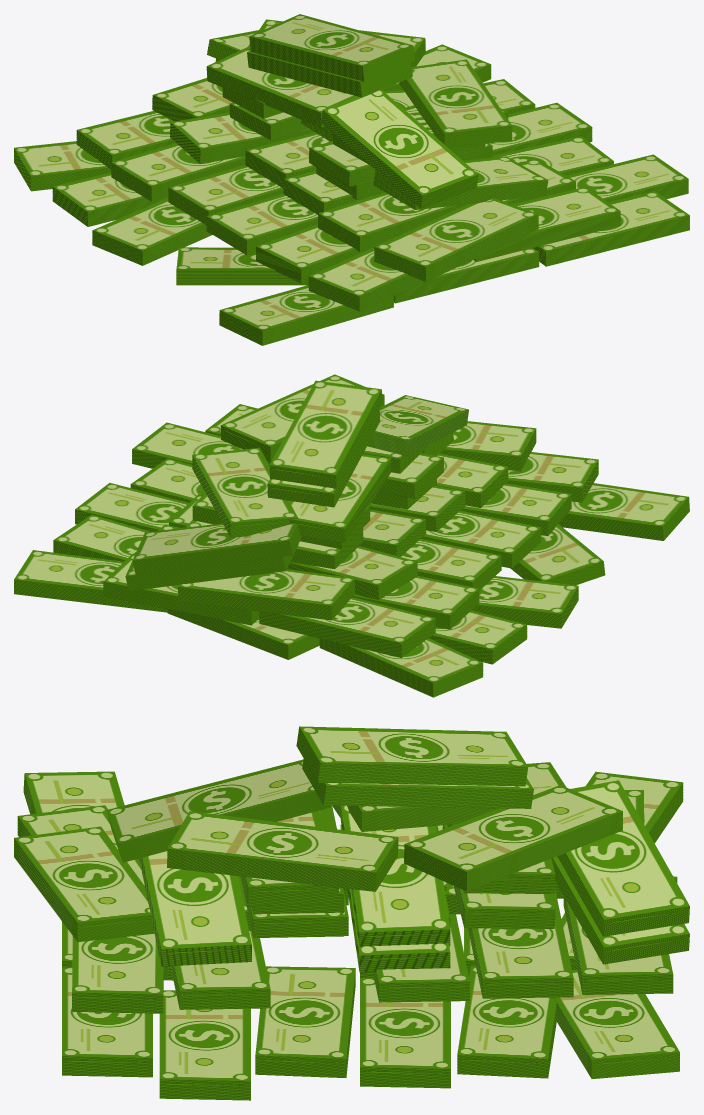
The model's file is uploads_files_3739943_Stack+of+money+.fbx.
The picture shows the model from 3 angles, top to bottom: view 1: azimuth 30°, elevation 25°; view 2: azimuth 150°, elevation 25°; view 3: azimuth 270°, elevation 25°; orthographic projection. The views are drawn at different scales.
Parts seen in each view (by area): view 1: Plane.047, Plane.033, Plane.009, Plane.045, Plane.002, Plane.022, Plane.014, Plane.048, Plane.018, Plane.034, Plane.024, Plane.019 (+27 smaller); view 2: Plane.009, Plane.032, Plane.046, Plane.043, Plane.030, Plane.002, Plane.017, Plane.015, Plane.014, Plane.048, Plane.047, Plane.024 (+25 smaller); view 3: Plane.045, Plane.046, Plane.009, Plane.033, Plane.043, Plane.008, Plane.047, Plane.039, Plane.004, Plane.015, Plane.012, Plane.003 (+19 smaller).
Part boxes in pixels (bbox=[...]): Plane.047: bbox=[321, 89, 478, 208]; Plane.033: bbox=[374, 198, 538, 281]; Plane.009: bbox=[249, 14, 414, 81]; Plane.045: bbox=[399, 59, 512, 147]; Plane.002: bbox=[219, 285, 393, 345]; Plane.022: bbox=[533, 191, 689, 266]; Plane.014: bbox=[92, 197, 212, 265]; Plane.048: bbox=[206, 47, 355, 127]; Plane.018: bbox=[474, 186, 620, 261]; Plane.034: bbox=[318, 192, 466, 251]; Plane.024: bbox=[206, 193, 317, 255]; Plane.019: bbox=[308, 247, 473, 311]; Plane.009: bbox=[269, 380, 382, 488]; Plane.032: bbox=[178, 569, 354, 620]; Plane.046: bbox=[192, 447, 297, 537]; Plane.043: bbox=[132, 523, 301, 575]; Plane.030: bbox=[259, 597, 435, 657]; Plane.002: bbox=[559, 483, 689, 540]; Plane.017: bbox=[319, 638, 483, 697]; Plane.015: bbox=[14, 550, 167, 612]; Plane.014: bbox=[471, 576, 578, 628]; Plane.048: bbox=[289, 454, 391, 542]; Plane.047: bbox=[367, 395, 468, 456]; Plane.024: bbox=[421, 510, 541, 568]; Plane.045: bbox=[167, 811, 398, 891]; Plane.046: bbox=[404, 785, 622, 891]; Plane.009: bbox=[296, 726, 528, 786]; Plane.033: bbox=[14, 826, 154, 941]; Plane.043: bbox=[557, 780, 689, 936]; Plane.008: bbox=[255, 966, 355, 1077]; Plane.047: bbox=[107, 759, 330, 862]; Plane.039: bbox=[139, 851, 251, 966]; Plane.004: bbox=[159, 990, 250, 1100]; Plane.015: bbox=[554, 969, 679, 1078]; Plane.012: bbox=[360, 978, 450, 1088]; Plane.003: bbox=[457, 966, 556, 1078].
Bounding box in the file's own units: 673 × 208 × 609.
